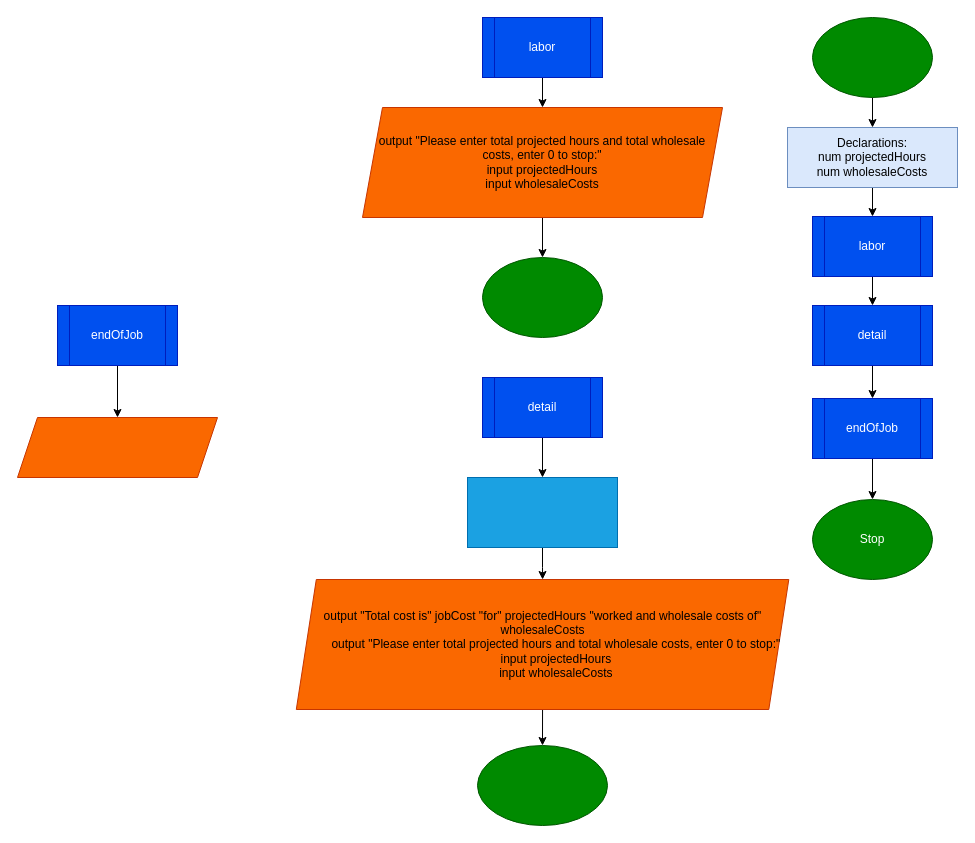
Some shapes in this 975 by 843 pixel diagram are drawn without their labels. The shapes that lost their labels are listed below. From the top down, each one's centre as x and y in pixels, then its label:
the point at 872,57: Start
the point at 542,297: Return
the point at 117,447: output "Thank you for using this program
the point at 542,512: jobCost = projectedHours times 30 plus wholesaleCost times %120
the point at 542,785: If projectedHours is "0"
